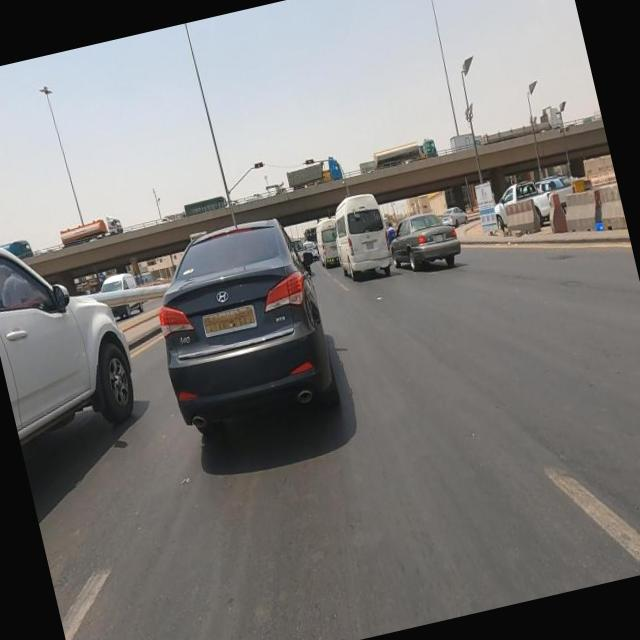debris: (564, 192, 626, 260), (498, 216, 540, 253)
